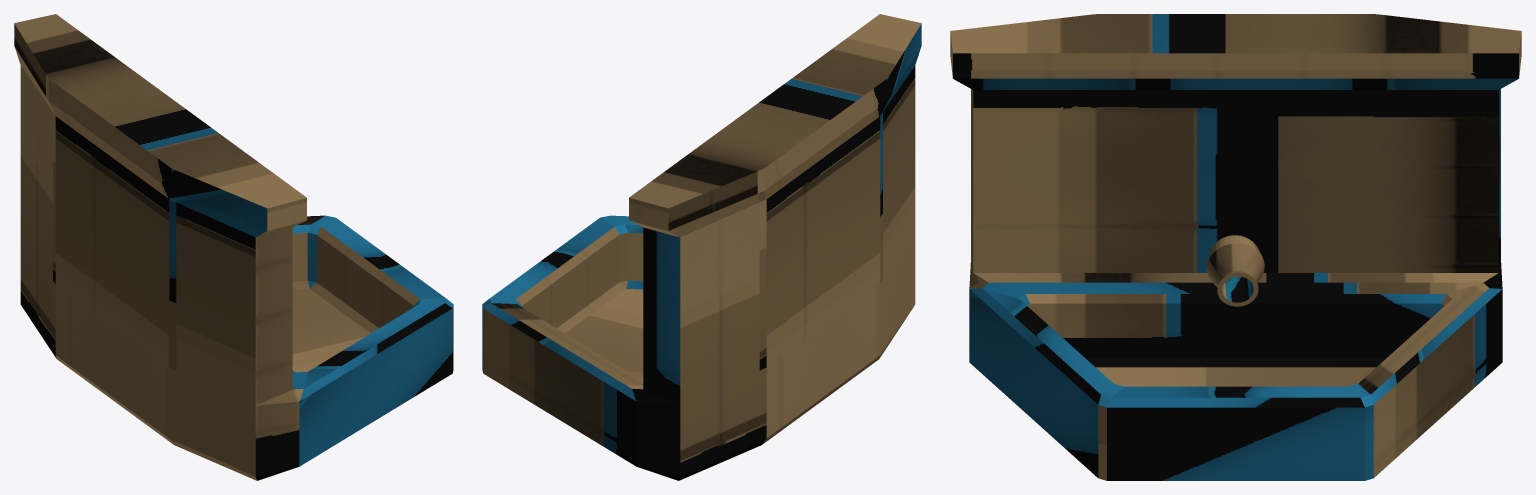
File: NFonte_Juan2blend.fbx
3 views of the same model, side by side, from view 1: azimuth 30°, elevation 25°; view 2: azimuth 150°, elevation 25°; view 3: azimuth 270°, elevation 25° (orthographic). The views are drawn at different scales.
Parts seen in each view (by area): view 1: Cylinder.001; view 2: Cylinder.001; view 3: Cylinder.001.
Boxes of the visible parts, <box> form: Cylinder.001: <box>14,14,453,480</box>; Cylinder.001: <box>482,14,921,480</box>; Cylinder.001: <box>950,14,1521,480</box>.
Size of the model in its own units: 338 by 316 by 517.
